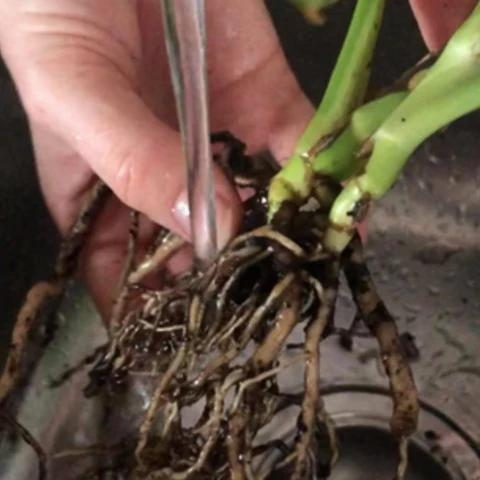root_rot: (43, 20, 480, 480)
